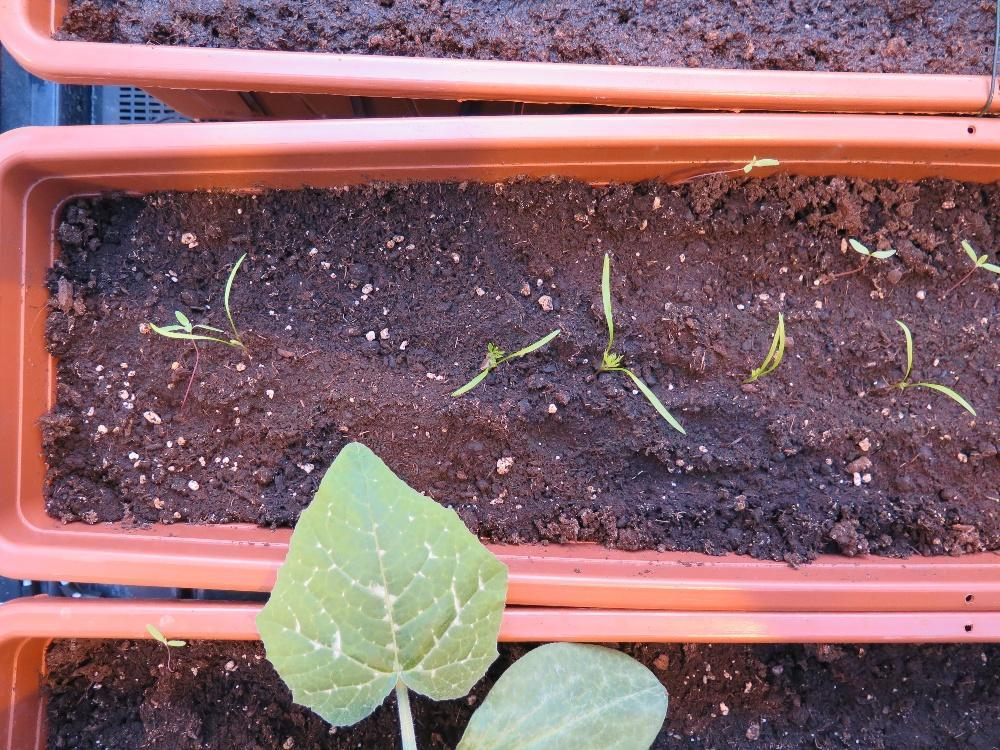crop: (598, 249, 685, 436), (891, 316, 977, 418), (448, 326, 561, 397), (740, 309, 785, 384)
weed: (143, 619, 186, 647), (846, 235, 896, 259), (739, 151, 779, 174)
